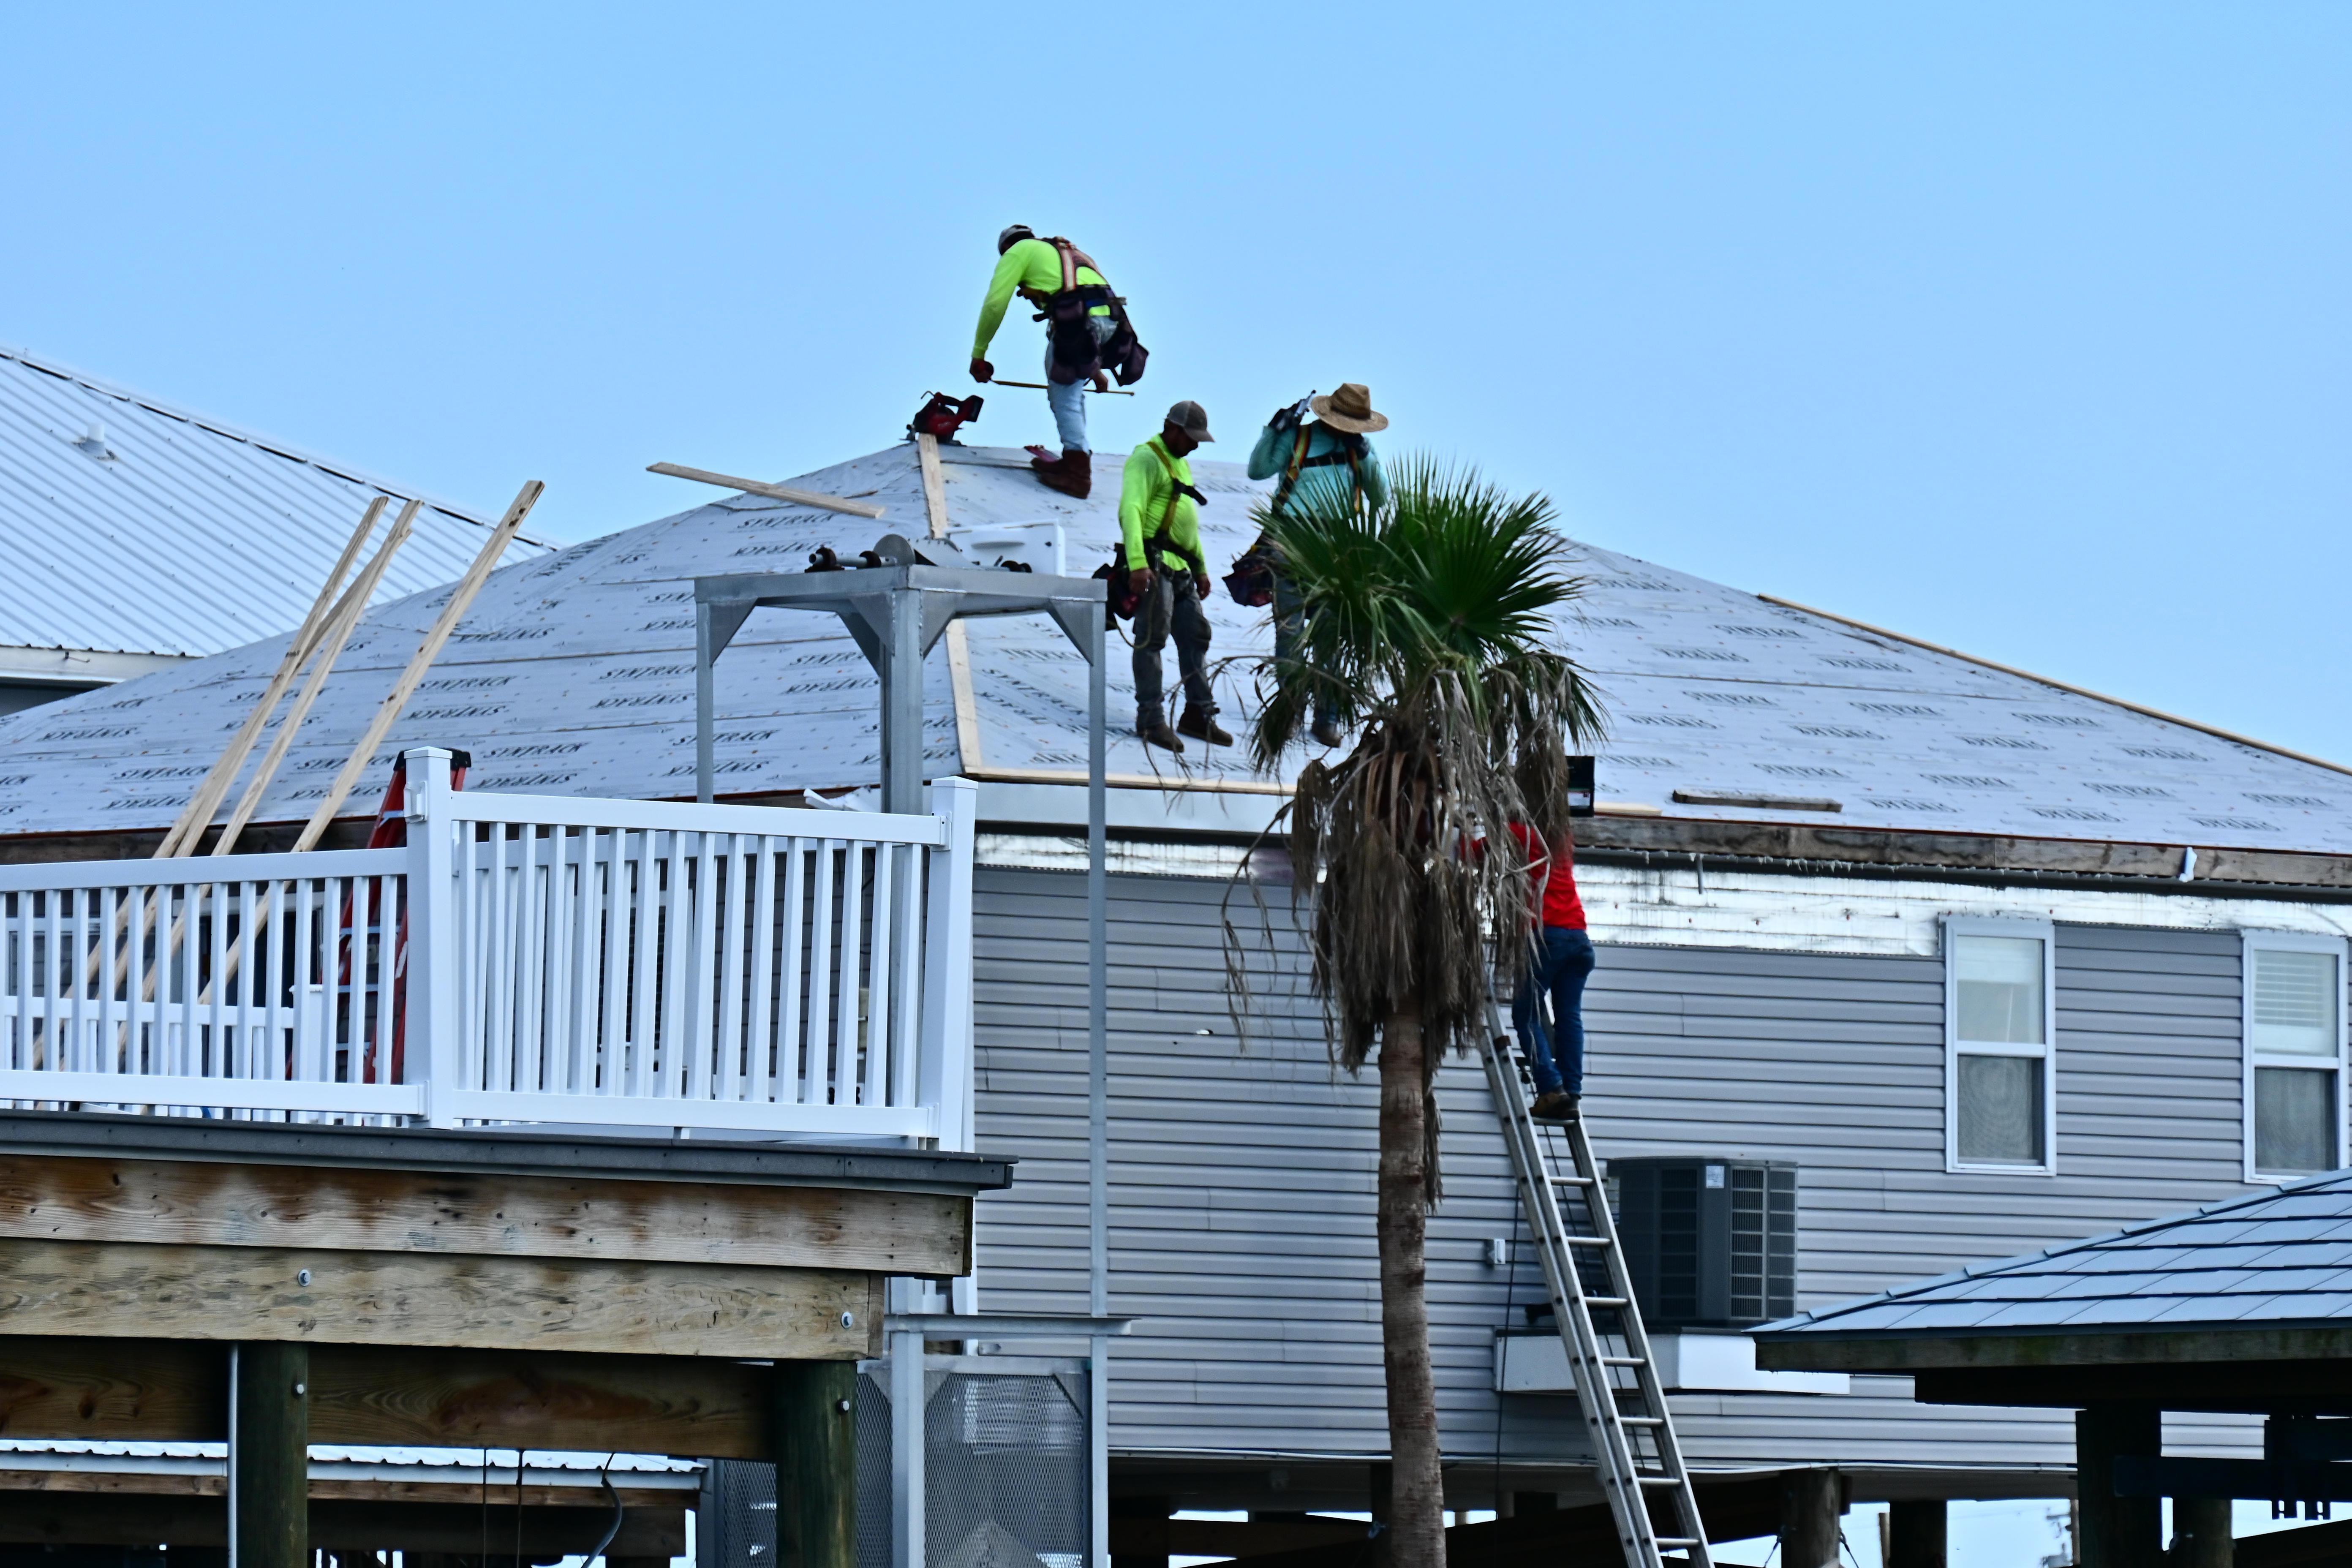minor: (0, 420, 2352, 1540)
